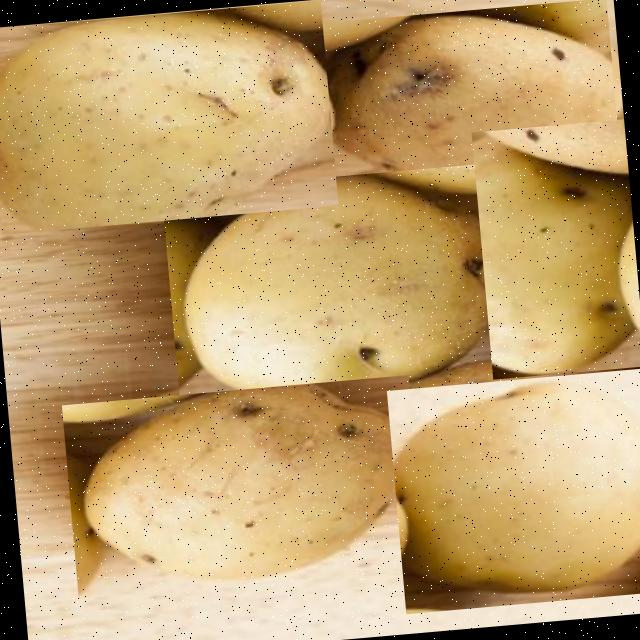Potato: (160, 162, 524, 416), (60, 374, 424, 598), (0, 0, 337, 234), (290, 0, 621, 207), (385, 368, 640, 614), (470, 118, 640, 379)
